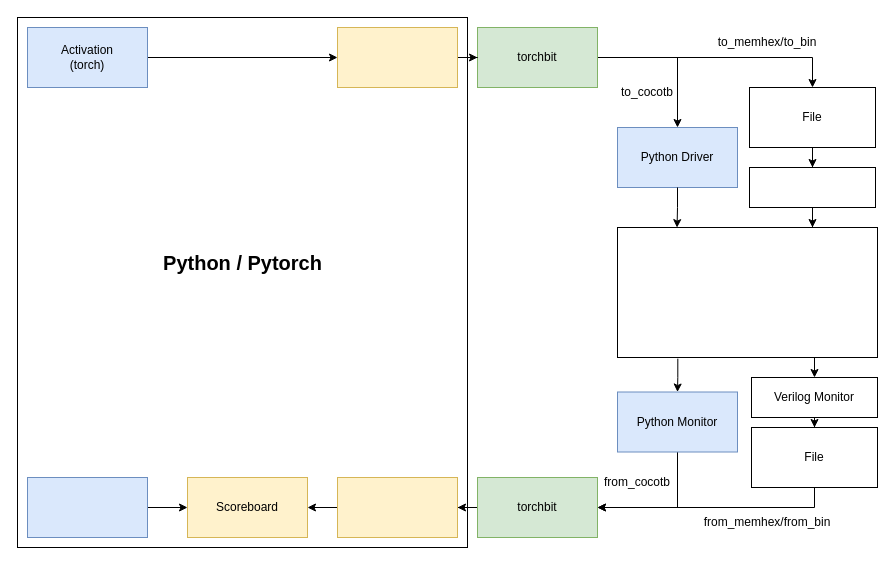
Some shapes in this 895 by 565 pixel diagram are drawn without their labels. The centre of each missing label's shape, as x and y in pixels:
Data Postprocess (depadding, demapping...): [397,507]
Data Preprocess (padding, mapping...): [397,57]
GT Results (torch): [87,507]
RTL (Verilog): [747,292]
Verilog Driver: [812,187]
